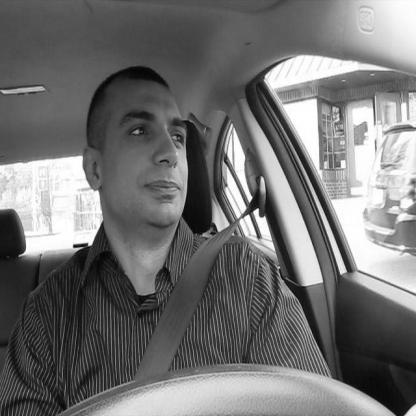seatbelt: (55, 66, 272, 372)
